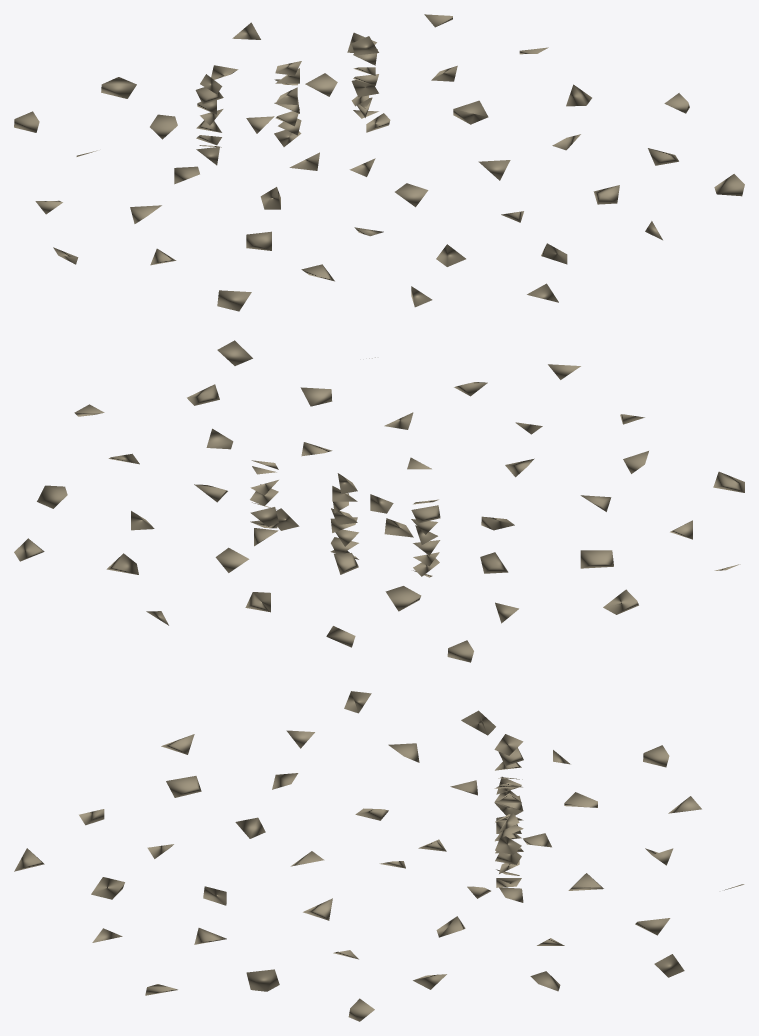
The model's file is crinoid-debris.glb.
3 views of the same model, one above another, from view 1: azimuth 30°, elevation 25°; view 2: azimuth 150°, elevation 25°; view 3: azimuth 270°, elevation 25° (orthographic). The views are drawn at different scales.
Visible parts, largest first — view 1: crinoid-debris; view 2: crinoid-debris; view 3: crinoid-debris.
Boxes of the visible parts, x1=… form: crinoid-debris: x1=14, y1=14, x2=744, y2=311; crinoid-debris: x1=14, y1=340, x2=744, y2=662; crinoid-debris: x1=14, y1=691, x2=744, y2=1021.
Size of the model in its own units: 2.06 by 0.25 by 1.99.
